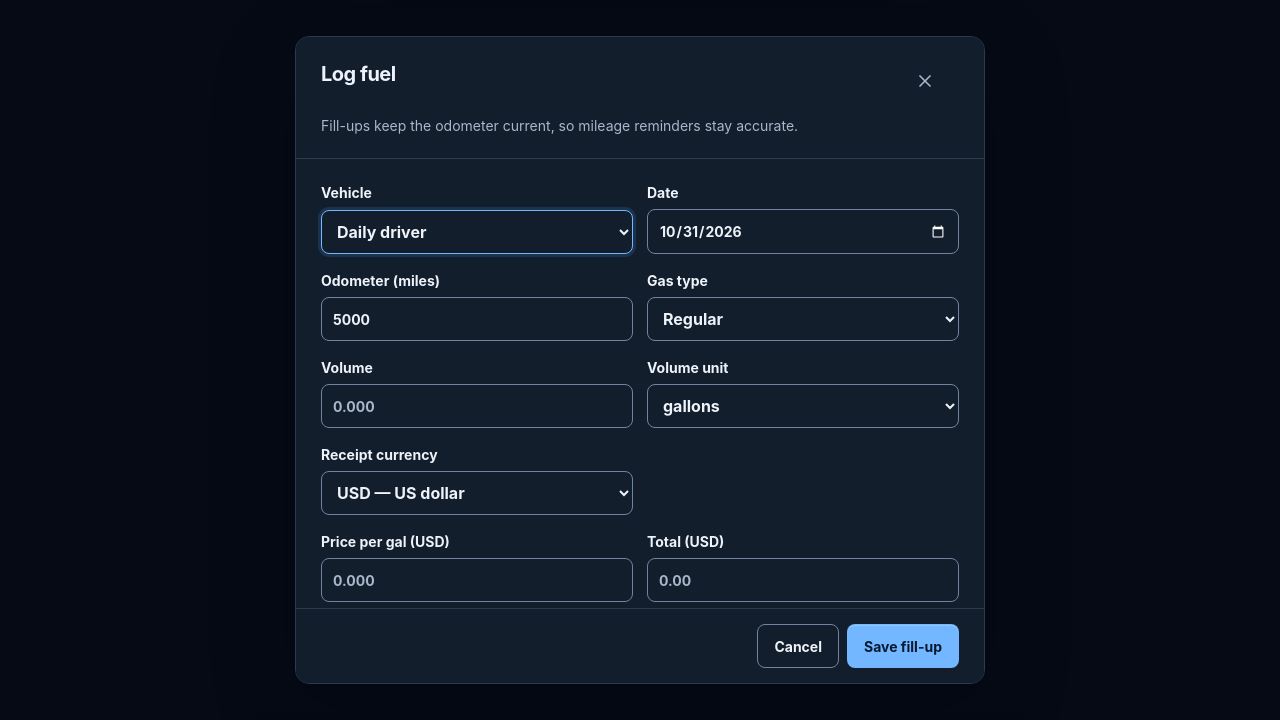
Test case: requires a volume and an odometer in order with other fill-ups
Click the button "Save fill-up".
click(903, 646)  # box [847, 624, 959, 668]
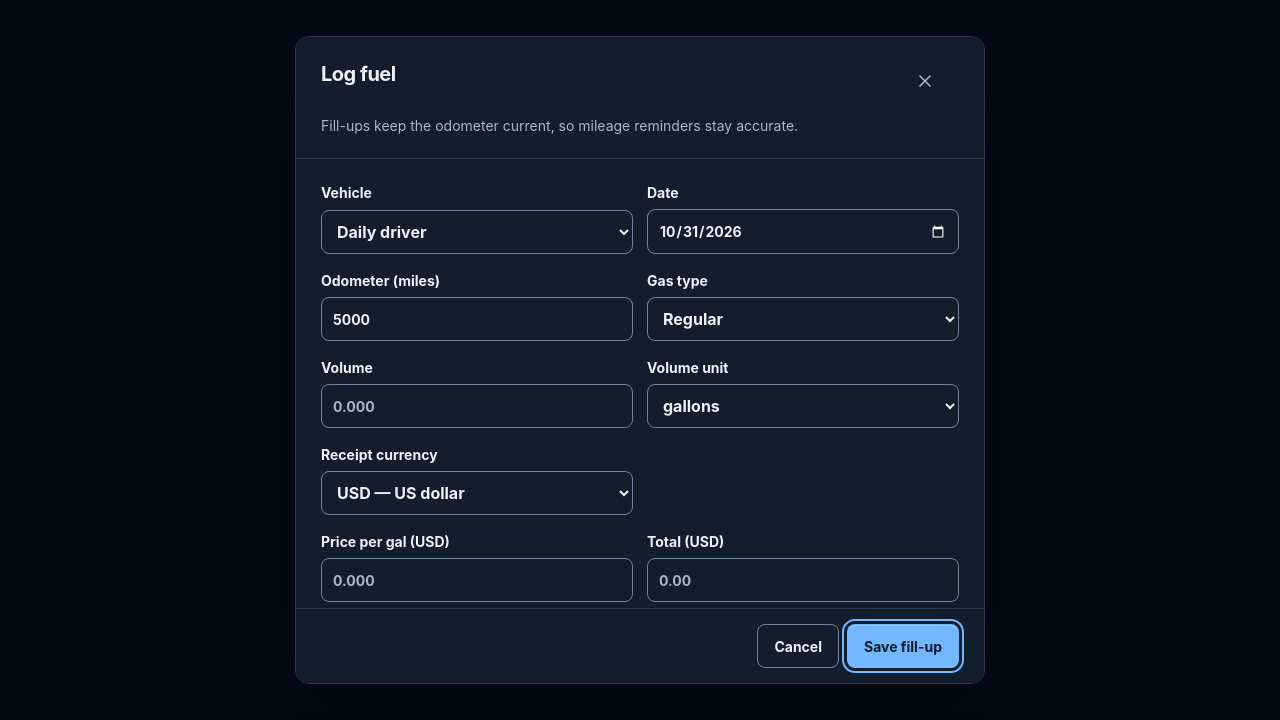
Replace the text in the number field labelled "Odometer (miles)" with "4000" at (477, 319), box [321, 297, 633, 341]
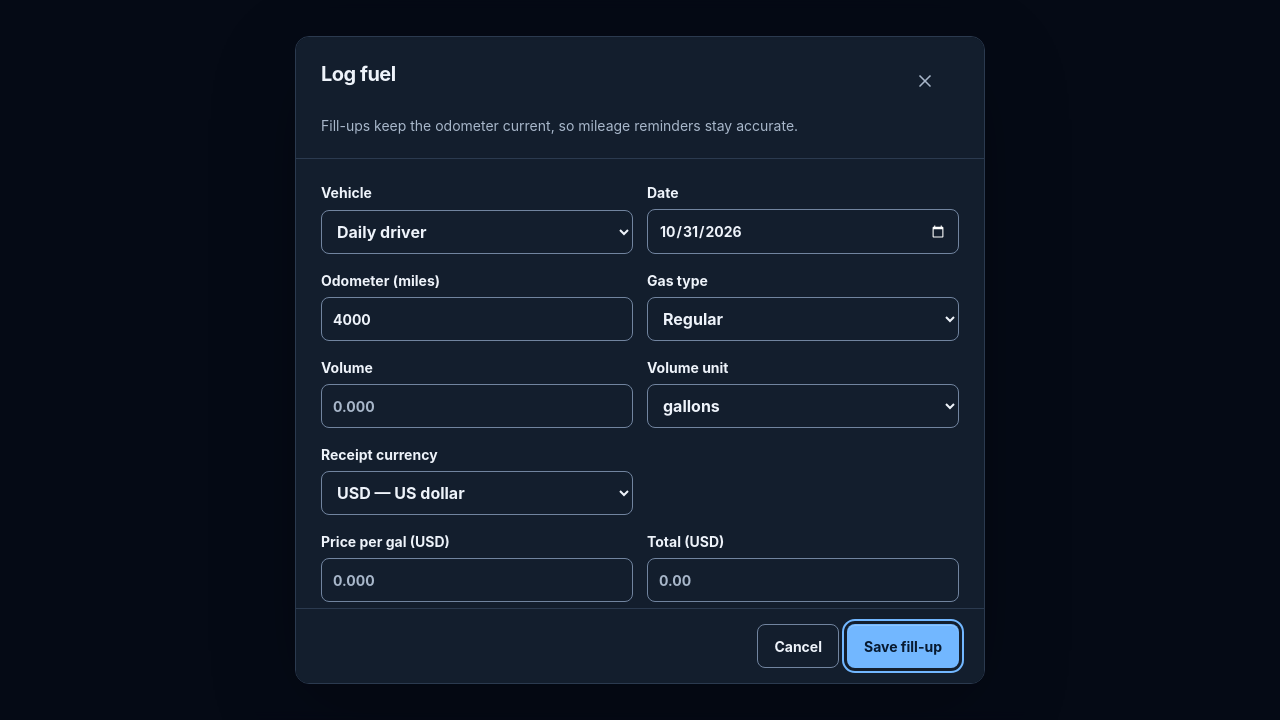
Type "10" into the number field labelled "Volume".
click(477, 406); type("10")  # box [321, 384, 633, 428]
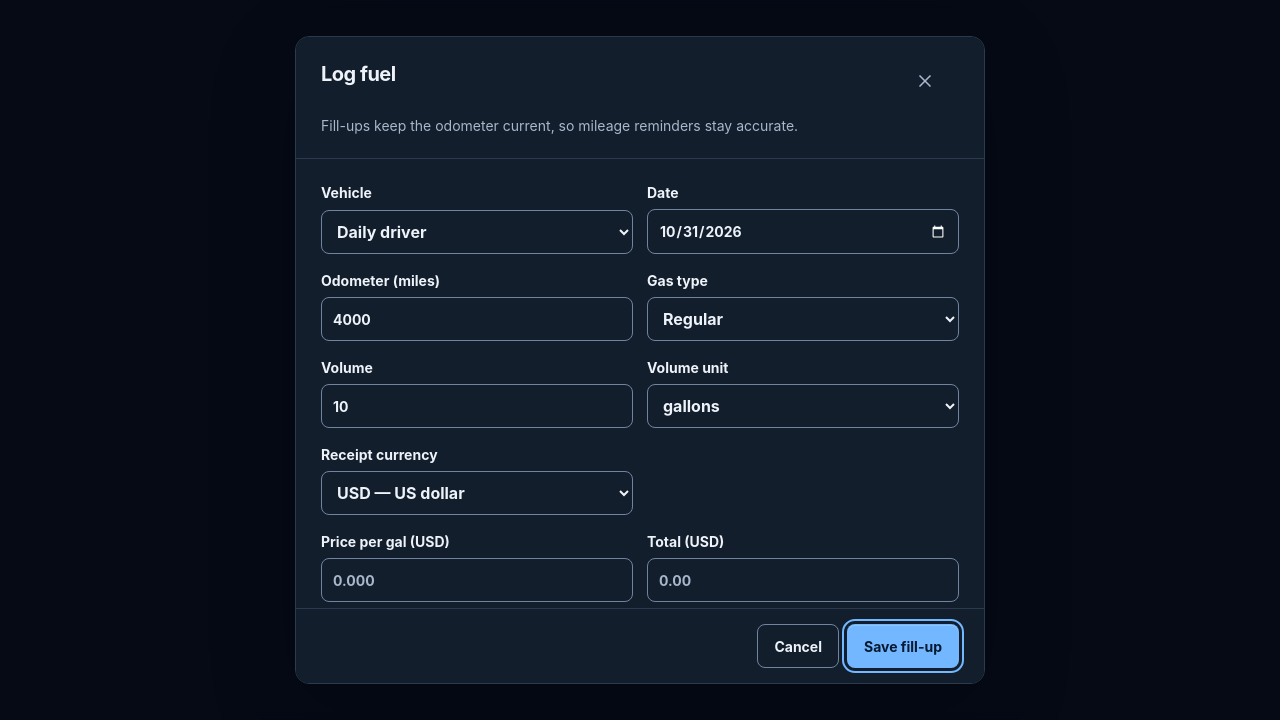
Type "30" into the number field labelled "Total (USD)".
click(803, 580); type("30")  # box [647, 558, 959, 602]
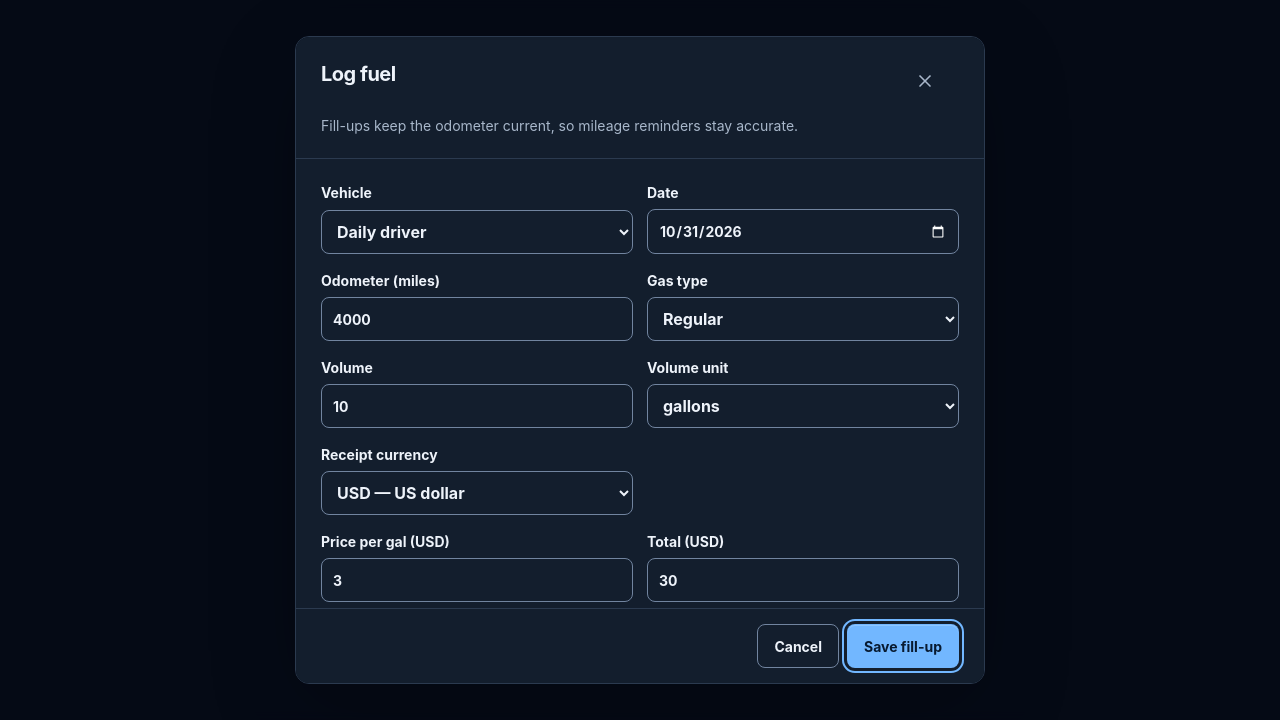
Click the button "Save fill-up".
click(903, 646)  # box [847, 624, 959, 668]
(page scrolled)
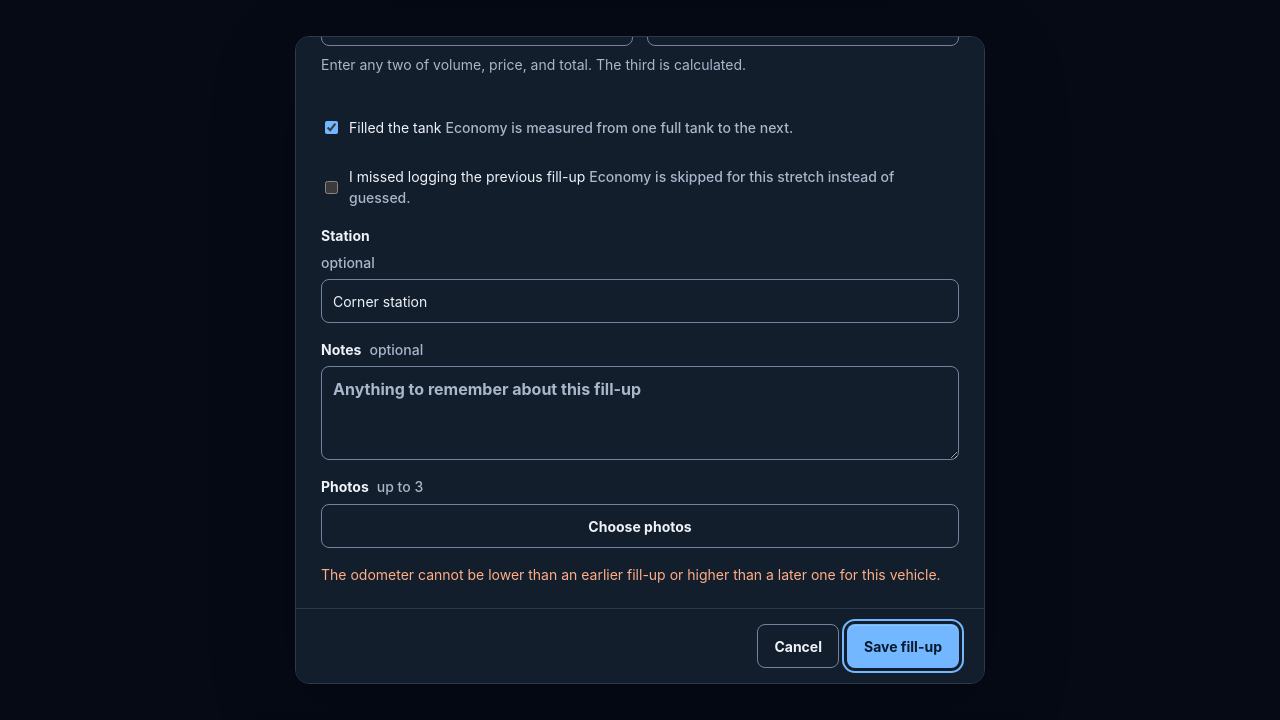
Expected: the message shows "The odometer cannot be lower than an earlier fill-up or higher than a later one for this vehicle.", [321, 566, 941, 583]
